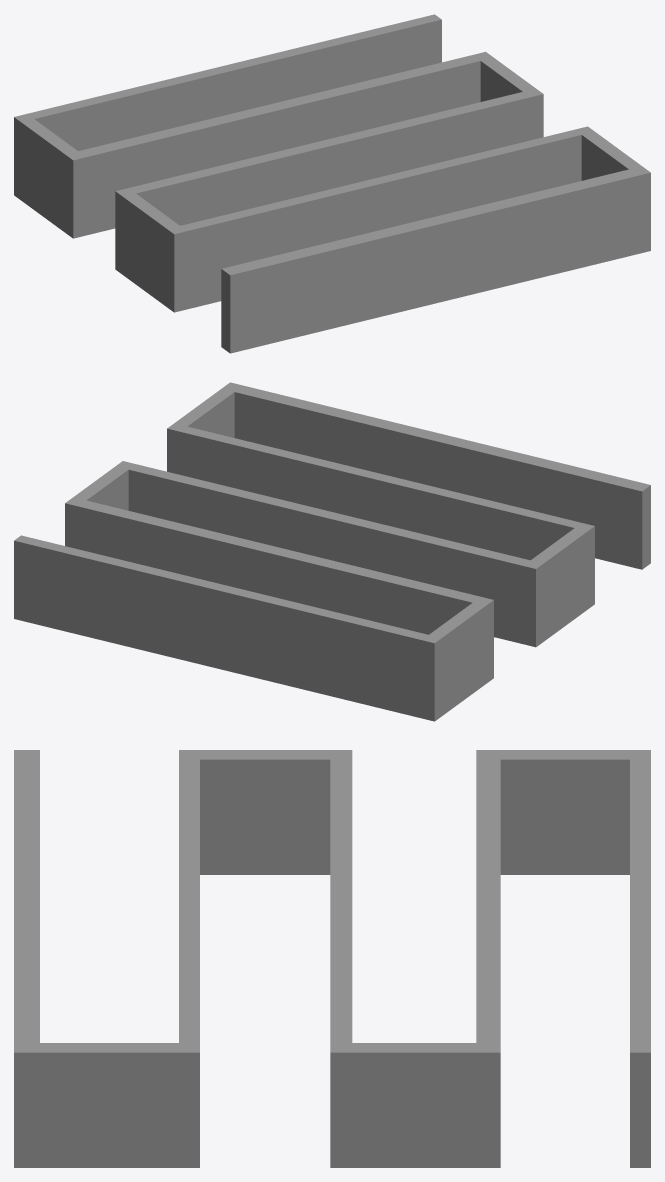
File: shelf.glb
3 renders of one model, top to bottom at view 1: azimuth 30°, elevation 25°; view 2: azimuth 150°, elevation 25°; view 3: azimuth 270°, elevation 25°, orthographic. The views are drawn at different scales.
Parts seen in each view (by area): view 1: shelf_009; view 2: shelf_009; view 3: shelf_009.
Part boxes in pixels (left/top/right/bottom): shelf_009: left=14, top=14, right=650, bottom=353; shelf_009: left=14, top=382, right=650, bottom=721; shelf_009: left=14, top=750, right=650, bottom=1167.
Size of the model in its own units: 1.32 by 0.2346 by 1.17.
Materials: 1 (1 with a texture image).
